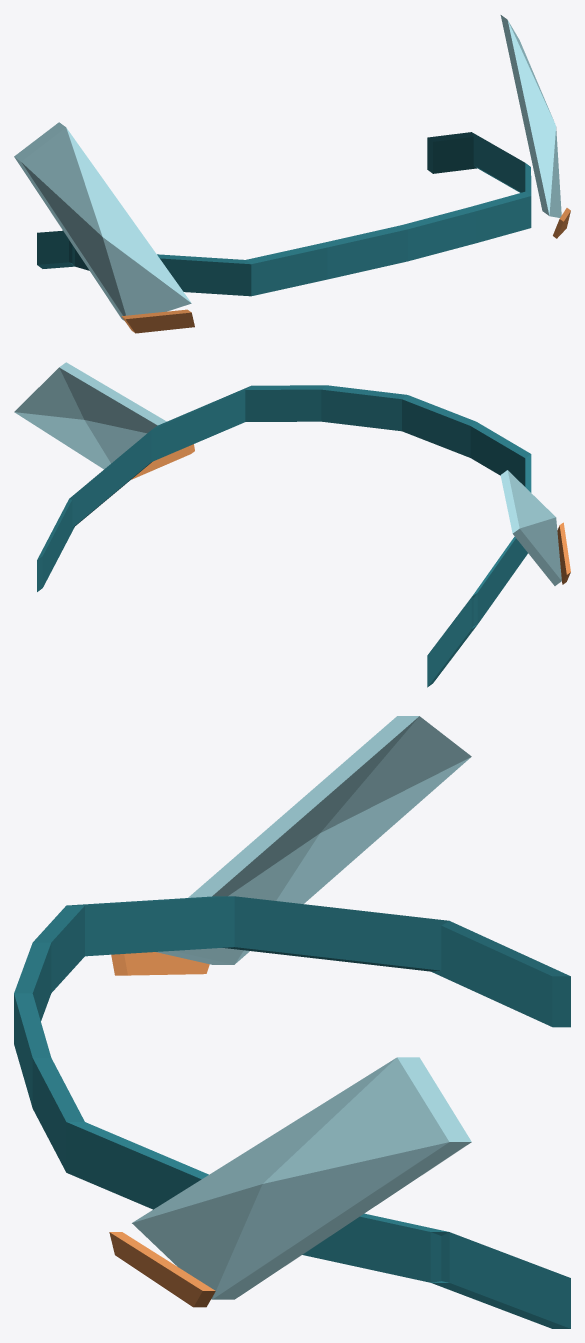
File: hat-tideglass-fin.glb
The picture shows the model from 3 angles, top to bottom: view 1: azimuth 30°, elevation 25°; view 2: azimuth 150°, elevation 25°; view 3: azimuth 270°, elevation 25°; orthographic projection. The views are drawn at different scales.
Parts seen in each view (by area): view 1: hat-tideglass-fin_ref2_hat-tideglass-fin__head_fin_mesh, hat-tideglass-fin_ref2_hat-tideglass-fin__head_detail_mesh; view 2: hat-tideglass-fin_ref2_hat-tideglass-fin__head_fin_mesh, hat-tideglass-fin_ref2_hat-tideglass-fin__head_detail_mesh; view 3: hat-tideglass-fin_ref2_hat-tideglass-fin__head_fin_mesh, hat-tideglass-fin_ref2_hat-tideglass-fin__head_detail_mesh.
Part boxes in pixels (bbox=[...]): hat-tideglass-fin_ref2_hat-tideglass-fin__head_fin_mesh: bbox=[14, 15, 561, 320]; hat-tideglass-fin_ref2_hat-tideglass-fin__head_detail_mesh: bbox=[121, 208, 570, 333]; hat-tideglass-fin_ref2_hat-tideglass-fin__head_fin_mesh: bbox=[14, 362, 561, 687]; hat-tideglass-fin_ref2_hat-tideglass-fin__head_detail_mesh: bbox=[131, 444, 570, 584]; hat-tideglass-fin_ref2_hat-tideglass-fin__head_fin_mesh: bbox=[14, 716, 570, 1328]; hat-tideglass-fin_ref2_hat-tideglass-fin__head_detail_mesh: bbox=[109, 952, 215, 1307].
Bounding box in the file's own units: 0.488 × 0.172 × 0.298.
